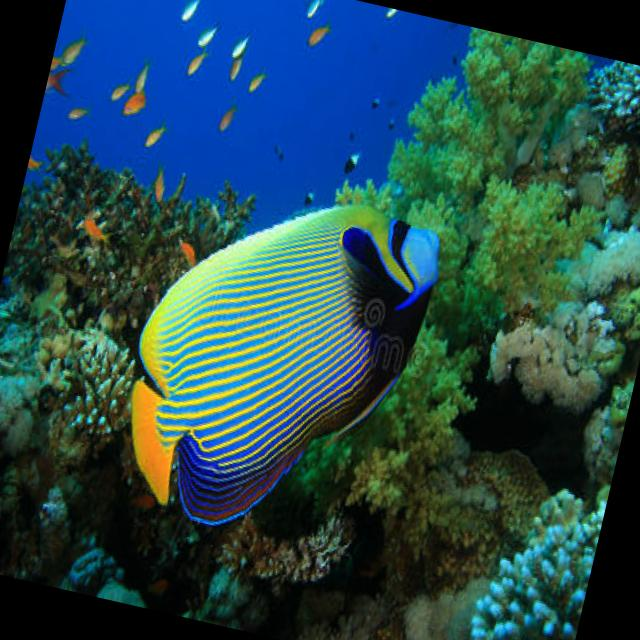AngelFish: (96, 162, 451, 567)
